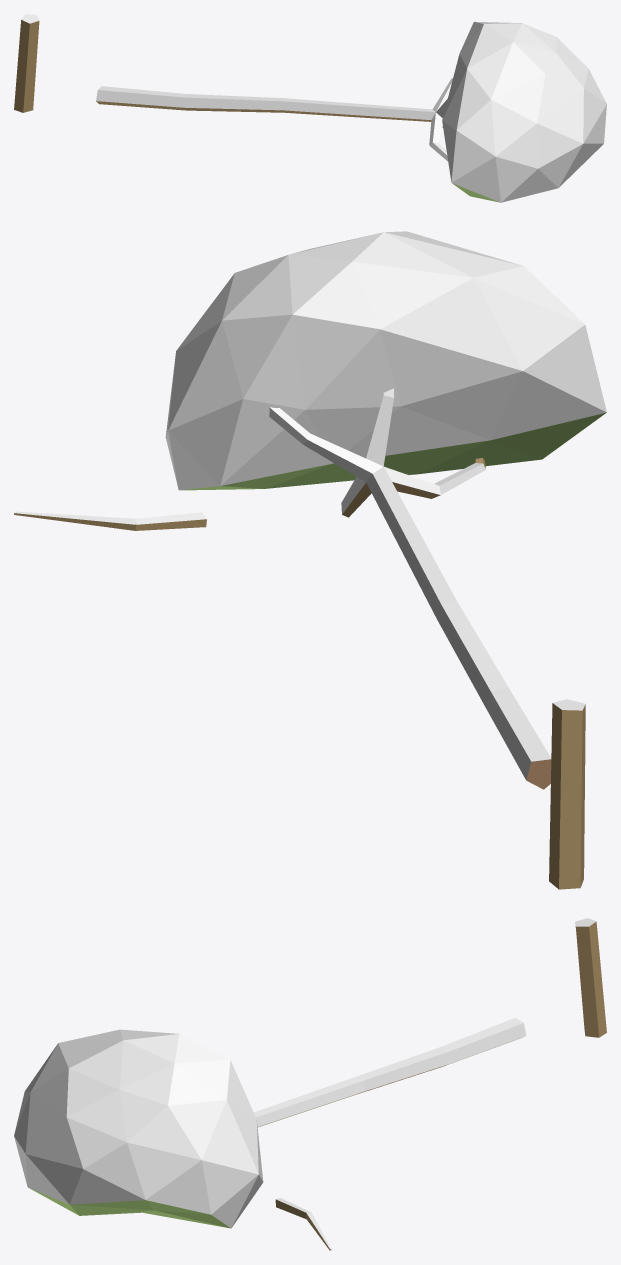
The model's file is Acacia_Tree_crk_m_Snow_03.fbx.
3 renders of one model, top to bottom at view 1: azimuth 30°, elevation 25°; view 2: azimuth 150°, elevation 25°; view 3: azimuth 270°, elevation 25°, orthographic. The views are drawn at different scales.
Visible parts, largest first — view 1: Acacia_Tree_crk_m_Snow_03; view 2: Acacia_Tree_crk_m_Snow_03; view 3: Acacia_Tree_crk_m_Snow_03.
Boxes of the visible parts, x1=… form: Acacia_Tree_crk_m_Snow_03: x1=14, y1=14, x2=606, y2=202; Acacia_Tree_crk_m_Snow_03: x1=14, y1=231, x2=606, y2=889; Acacia_Tree_crk_m_Snow_03: x1=14, y1=918, x2=606, y2=1250.
Size of the model in its own units: 688 by 220 by 699.
